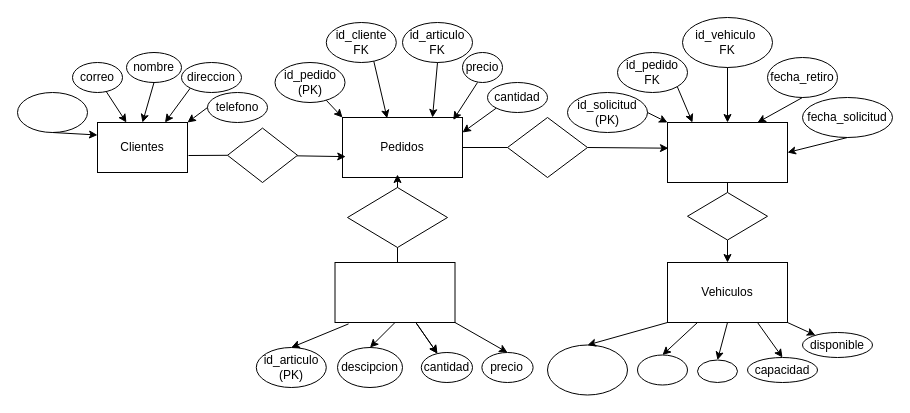
This 910x413 diagram has some shape labels left out. The centre of each missing label's shape, as x and y in pixels:
"Articulos" belongs at (x=394, y=292).
"Conforman 1:N" belongs at (x=397, y=217).
"id_cliente (PK)" belongs at (x=52, y=112).
"id_vehiculo (PK)" belongs at (x=587, y=369).
"patente" belongs at (x=662, y=369).
"Realiza 1:N" belongs at (x=262, y=154).
"Realizan 1:1" belongs at (x=547, y=147).
"Solicitudes" belongs at (x=727, y=152).
"tipo" belongs at (x=717, y=370).
"Utilizan M:1" belongs at (x=727, y=216).
